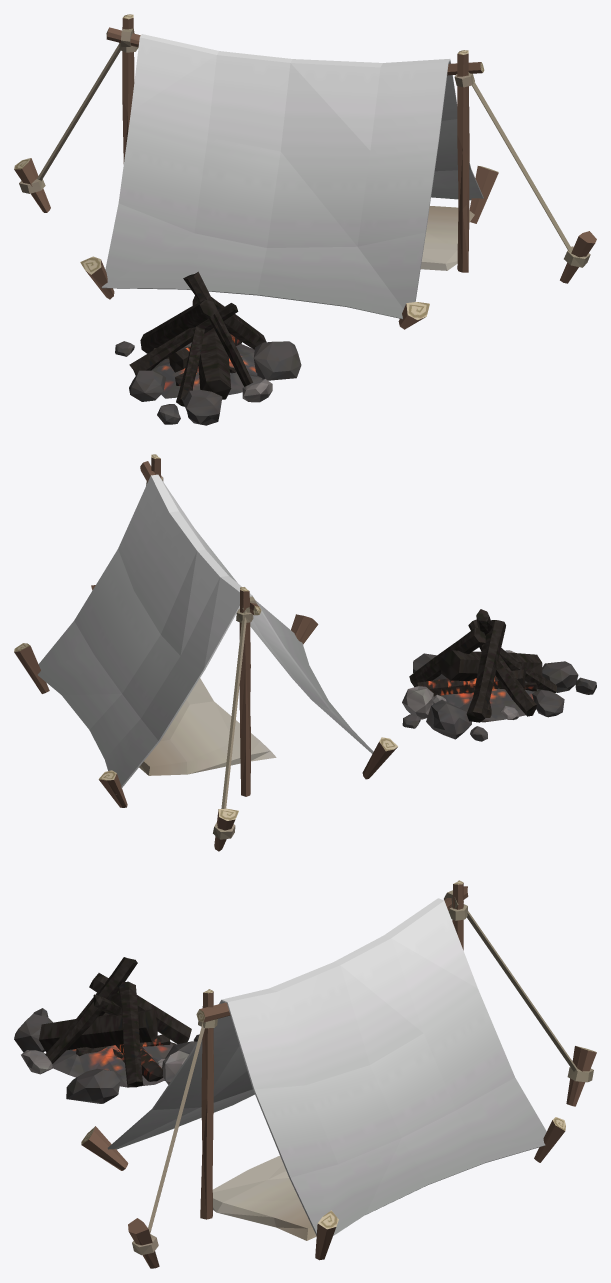
File: safecamp01.fbx
The picture shows the model from 3 angles, top to bottom: view 1: azimuth 30°, elevation 25°; view 2: azimuth 150°, elevation 25°; view 3: azimuth 270°, elevation 25°; orthographic projection. The views are drawn at different scales.
Visible parts, largest first — view 1: safecamp01; view 2: safecamp01; view 3: safecamp01.
Part boxes in pixels (box(x1,y1,x2,y2)): safecamp01: box(14, 14, 596, 425); safecamp01: box(14, 454, 596, 851); safecamp01: box(14, 880, 596, 1268).
Bounding box in the file's own units: 4.85 × 2.21 × 4.87.
